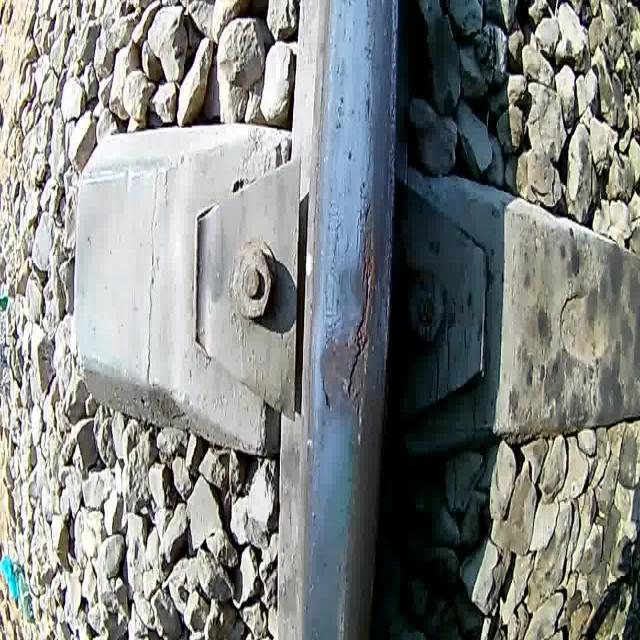Cracks: (346, 194, 375, 413), (320, 367, 334, 420)
Squats: (314, 185, 381, 456)
